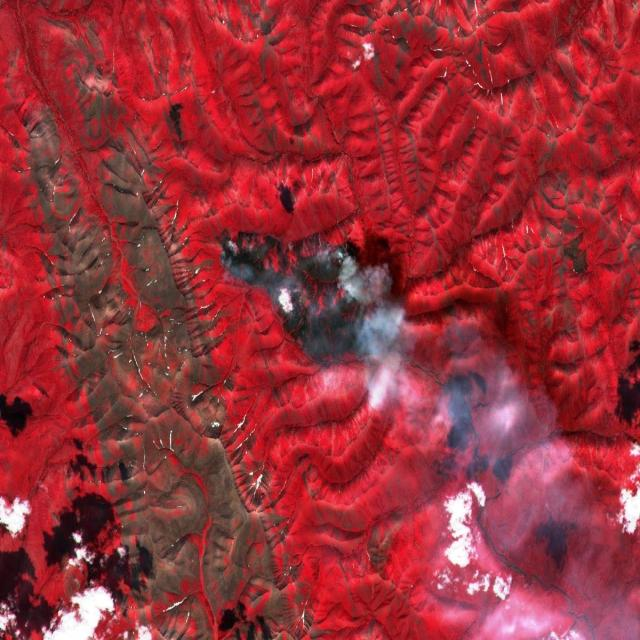fire: (214, 210, 390, 363)
